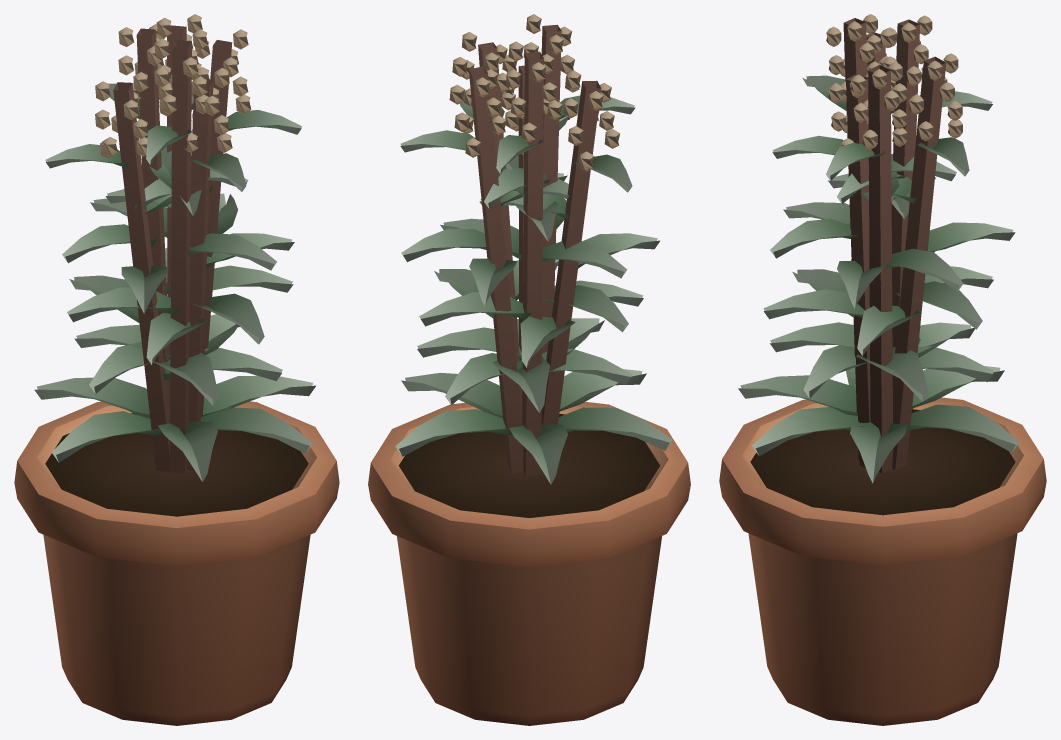
File: pot_mugwort.glb
3 renders of one model, left to right at view 1: azimuth 30°, elevation 25°; view 2: azimuth 150°, elevation 25°; view 3: azimuth 270°, elevation 25°, orthographic.
Parts seen in each view (by area): view 1: pot_mugwort; view 2: pot_mugwort; view 3: pot_mugwort.
Boxes of the visible parts, bbox=[...] form: pot_mugwort: bbox=[14, 14, 339, 725]; pot_mugwort: bbox=[368, 14, 690, 725]; pot_mugwort: bbox=[719, 14, 1046, 725].
Bounding box in the file's own units: 0.464 × 1.04 × 0.464.
